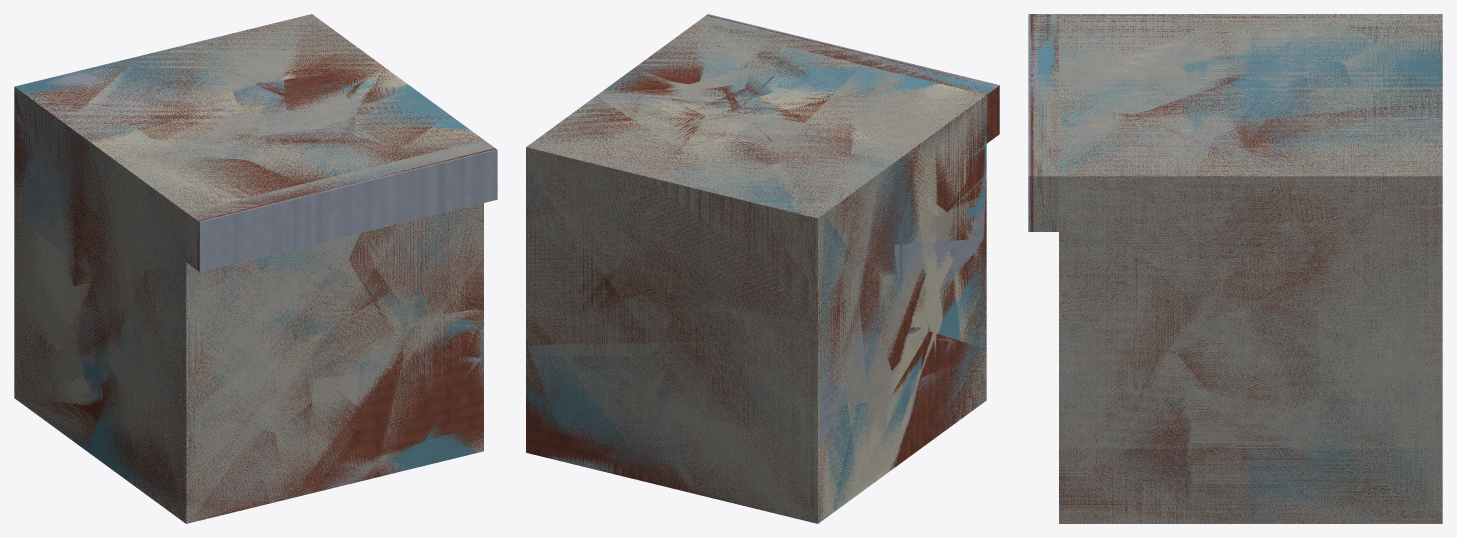
The model's file is demigol_shards.fbx.
The picture shows the model from 3 angles, left to right: view 1: azimuth 30°, elevation 25°; view 2: azimuth 150°, elevation 25°; view 3: azimuth 270°, elevation 25°; orthographic projection. The views are drawn at different scales.
Visible parts, largest first — view 1: shard_brick_a_24, shard_brick_a_04, shard_concrete_b_28, shard_concrete_a_31, shard_steel_a_09, shard_steel_a_08, shard_concrete_a_29, shard_concrete_a_14, shard_steel_d_01, shard_concrete_a_27, shard_concrete_a_28, shard_brick_a_02 (+133 smaller); view 2: shard_concrete_a_06, shard_concrete_a_03, shard_concrete_a_15, shard_concrete_a_24, shard_concrete_a_00, shard_concrete_c_06, shard_concrete_a_12, shard_concrete_a_21, shard_brick_b_21, shard_brick_a_25, shard_glass_b_43, shard_brick_c_00 (+124 smaller); view 3: shard_concrete_a_24, shard_concrete_a_20, shard_concrete_b_24, shard_concrete_a_22, shard_glass_d_42, shard_concrete_a_19, shard_concrete_a_23, shard_concrete_a_25, shard_concrete_a_08, shard_concrete_a_29, shard_concrete_a_21, shard_concrete_b_26 (+128 smaller).
Part boxes in pixels (x1,y1,x2,y2): shard_brick_a_24: [348, 116, 483, 331]; shard_brick_a_04: [392, 323, 483, 460]; shard_concrete_b_28: [203, 351, 312, 509]; shard_concrete_a_31: [129, 274, 274, 420]; shard_steel_a_09: [330, 147, 497, 236]; shard_steel_a_08: [187, 180, 343, 271]; shard_concrete_a_29: [373, 203, 483, 306]; shard_concrete_a_14: [273, 267, 409, 398]; shard_steel_d_01: [14, 59, 241, 274]; shard_concrete_a_27: [212, 235, 374, 339]; shard_concrete_a_28: [153, 395, 283, 523]; shard_brick_a_02: [293, 367, 392, 497]; shard_concrete_a_06: [699, 133, 877, 296]; shard_concrete_a_03: [689, 288, 862, 439]; shard_concrete_a_15: [621, 144, 798, 305]; shard_concrete_a_24: [526, 96, 653, 270]; shard_concrete_a_00: [694, 361, 886, 523]; shard_concrete_c_06: [712, 162, 877, 333]; shard_concrete_a_12: [608, 245, 757, 409]; shard_concrete_a_21: [526, 244, 629, 356]; shard_brick_b_21: [639, 168, 871, 346]; shard_brick_a_25: [661, 153, 880, 323]; shard_glass_b_43: [526, 348, 662, 485]; shard_brick_c_00: [902, 331, 986, 461]; shard_concrete_a_24: [1265, 114, 1442, 318]; shard_concrete_a_20: [1059, 366, 1204, 523]; shard_concrete_b_24: [1324, 129, 1442, 368]; shard_concrete_a_22: [1167, 267, 1322, 438]; shard_glass_d_42: [1211, 69, 1442, 141]; shard_concrete_a_19: [1198, 397, 1340, 523]; shard_concrete_a_23: [1059, 224, 1222, 384]; shard_concrete_a_25: [1183, 102, 1353, 268]; shard_concrete_a_08: [1059, 14, 1213, 79]; shard_concrete_a_29: [1059, 184, 1184, 322]; shard_concrete_a_21: [1320, 287, 1442, 415]; shard_concrete_b_26: [1059, 124, 1215, 312].
Bounding box in the file's own units: 3 × 3 × 3.24.
Materials: 2 (2 with a texture image).
